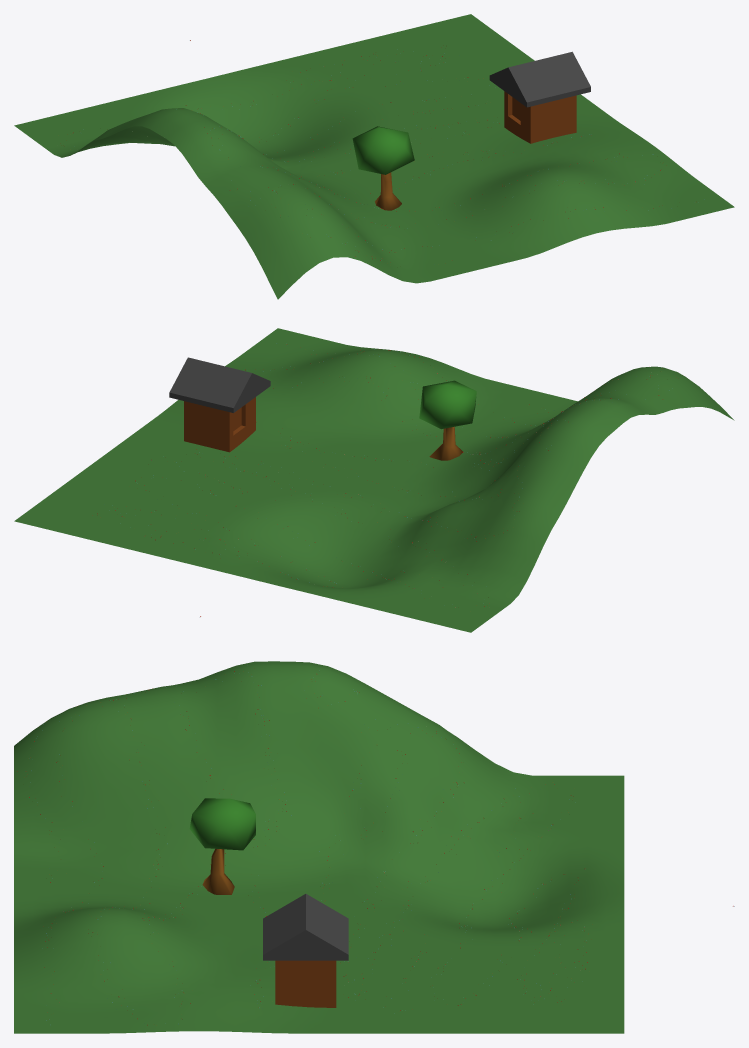
Rendered from home_chunk.glb.
The picture shows the model from 3 angles, top to bottom: view 1: azimuth 30°, elevation 25°; view 2: azimuth 150°, elevation 25°; view 3: azimuth 270°, elevation 25°; orthographic projection. The views are drawn at different scales.
Parts seen in each view (by area): view 1: GroundPlane250m-col, House-col, Tree-col; view 2: GroundPlane250m-col, House-col, Tree-col; view 3: GroundPlane250m-col, House-col, Tree-col.
Part boxes in pixels (bbox=[...]): GroundPlane250m-col: bbox=[14, 14, 734, 299]; House-col: bbox=[489, 51, 590, 143]; Tree-col: bbox=[352, 126, 414, 210]; GroundPlane250m-col: bbox=[14, 328, 734, 632]; House-col: bbox=[169, 357, 270, 452]; Tree-col: bbox=[419, 380, 476, 460]; GroundPlane250m-col: bbox=[14, 661, 624, 1033]; House-col: bbox=[263, 894, 348, 1007]; Tree-col: bbox=[189, 798, 255, 894].
Size of the model in its own units: 250 by 71.86 by 295.
